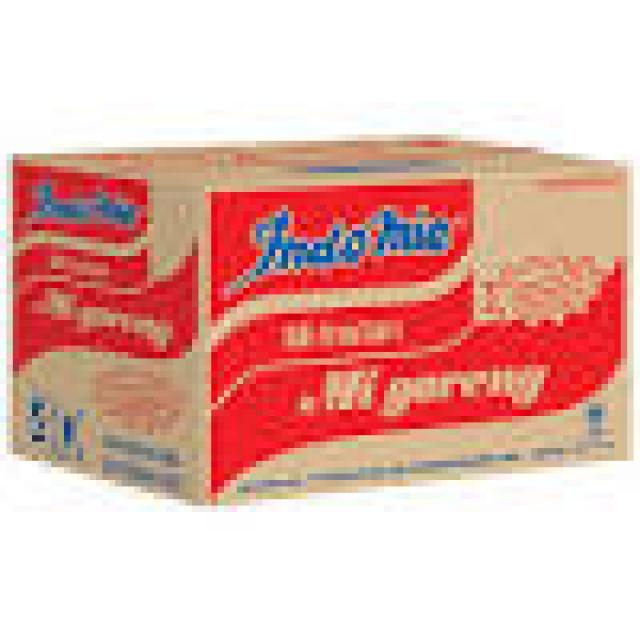Kardus kondisi bagus: (12, 139, 634, 507)
